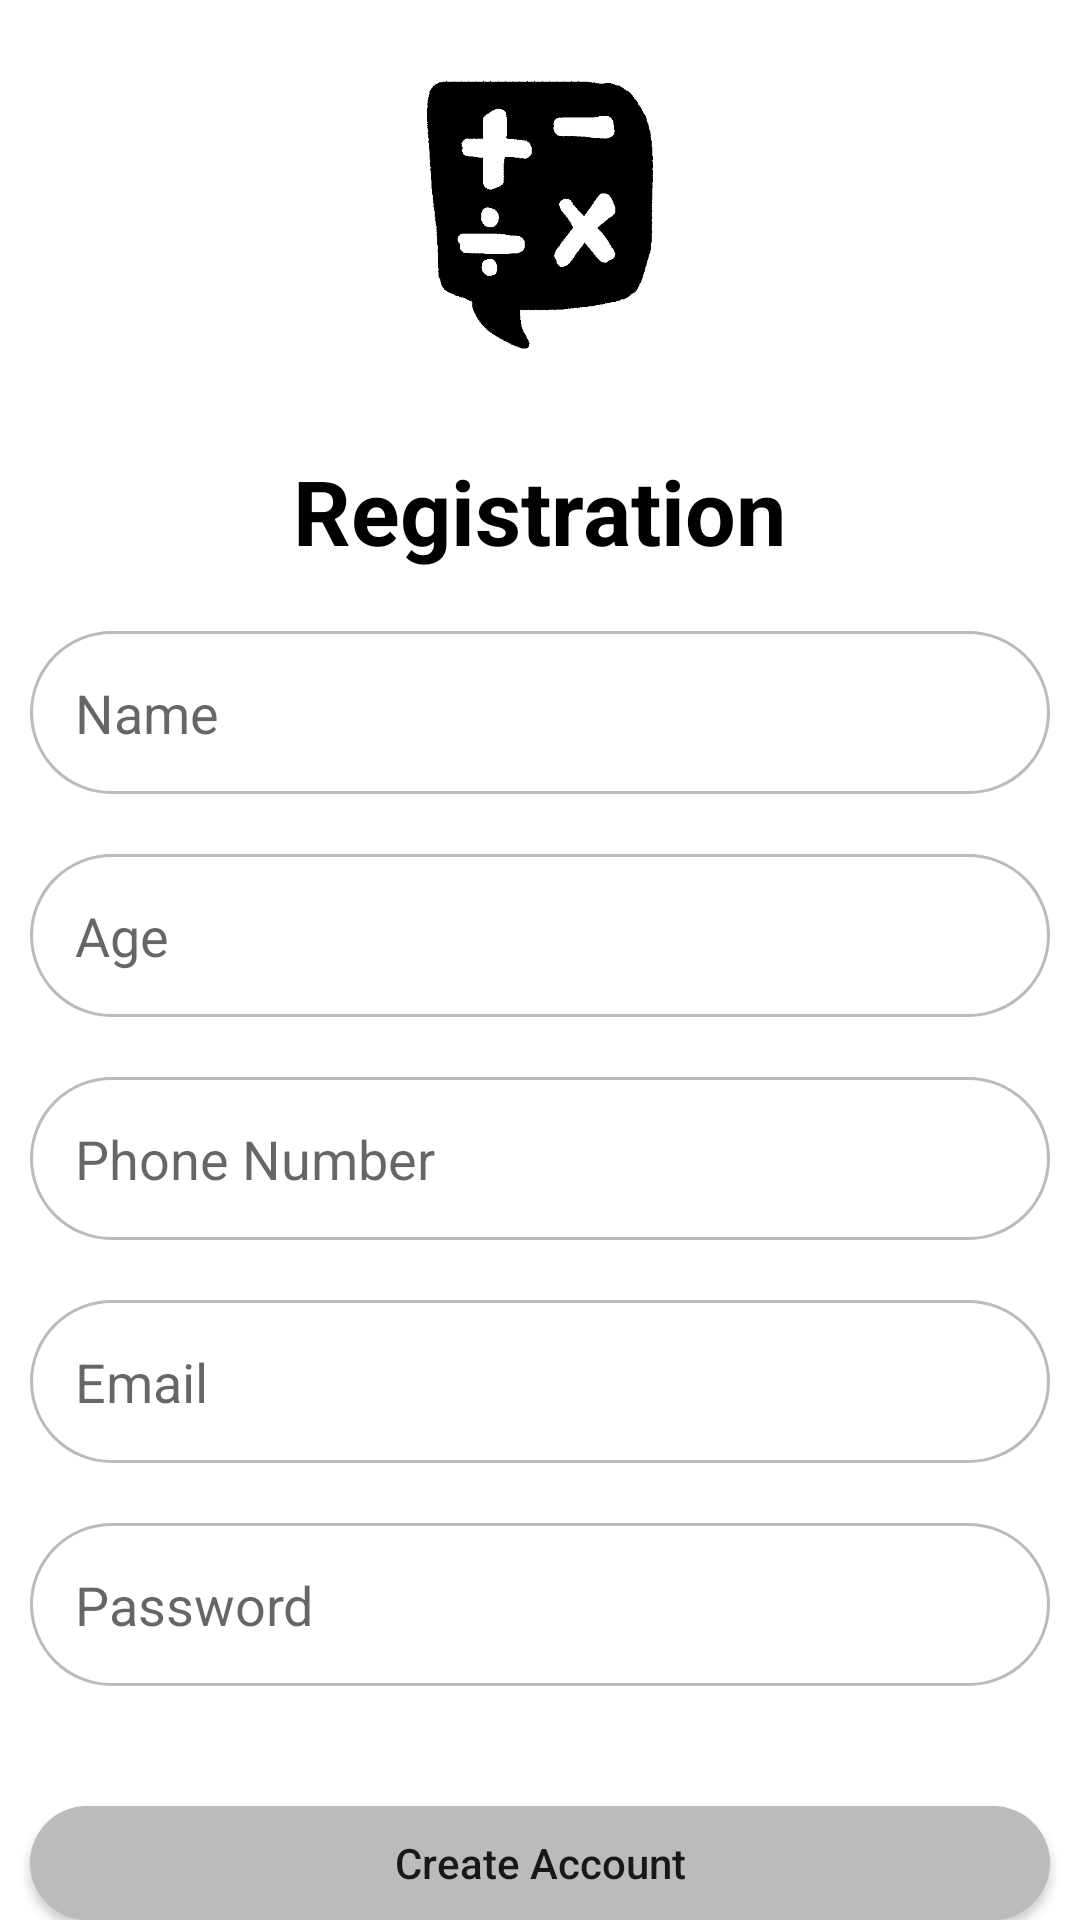

Icons on this 1080*1920 Android screen, each with the point to tap as [x,y]:
Mathz: [540,215]
